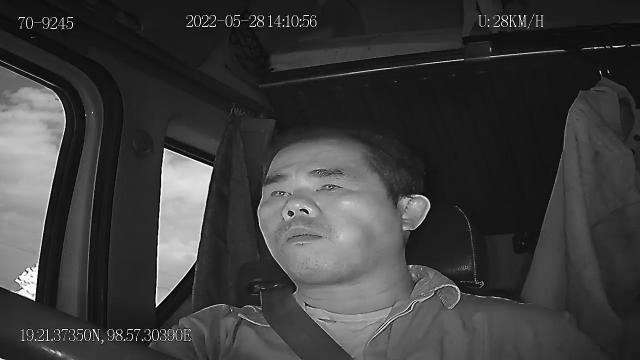SafeDriving: (309, 172, 350, 199), (262, 180, 296, 204)
Seatbelt: (260, 287, 352, 359)
